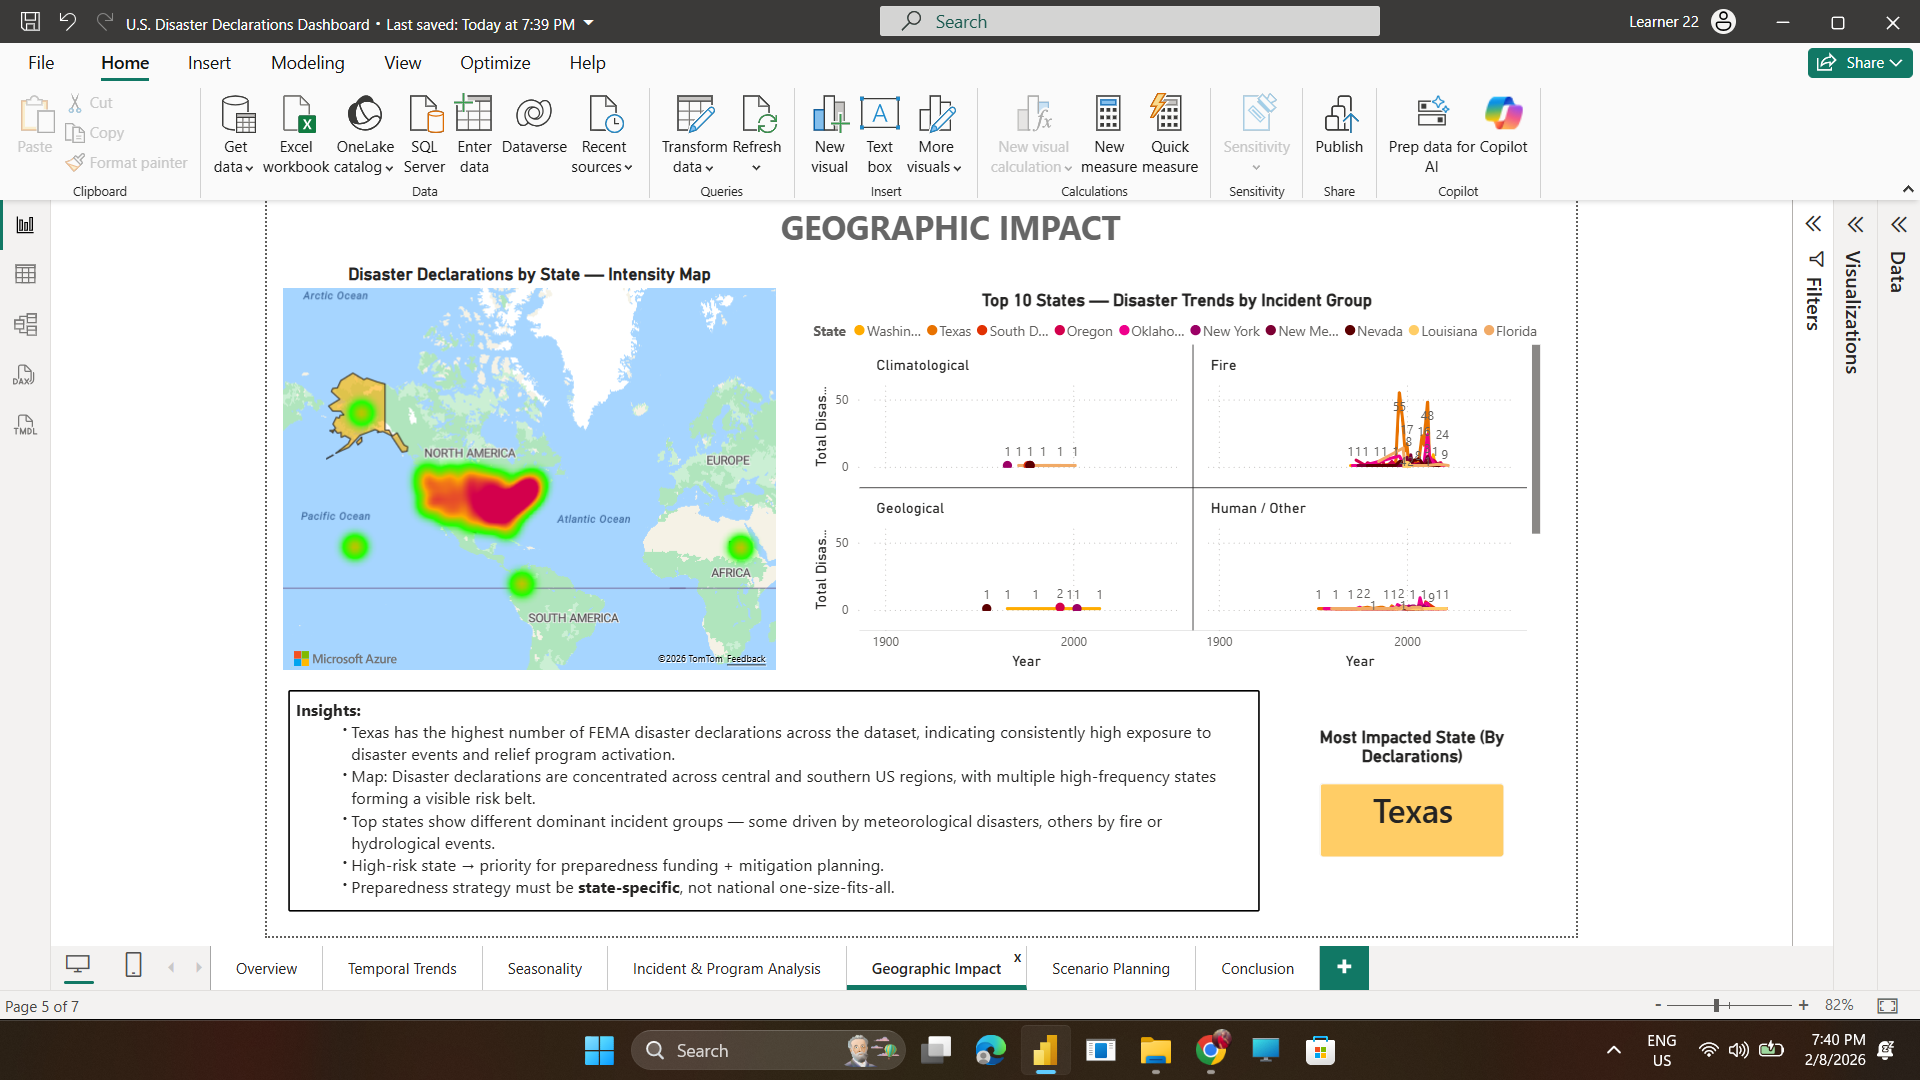

The page's visual inventory and layout, read from the dashboard file:
{"tool":"powerbi","page":{"name":"Geographic Impact","canvas":[1280,720],"ordinal":4},"visuals":[{"type":"lineChart","title":"Top 10 States — Disaster Trends by Incident Group","fields":{"Series":["US_States_and_Territories.Full Name"],"Category":["DimDate.Year"],"Y":["US Disaster_Declarations.Total_Disasters"],"Rows":["US Disaster_Declarations.Incident Group"]},"box":[529.5,88,721.5,376.6],"z":0},{"type":"azureMap","title":"Disaster Declarations by State — Intensity Map","fields":{"Category":["US_States_and_Territories.State"]},"box":[11,62.4,491.6,402.3],"z":1000},{"type":"textbox","box":[393.8,0,550,52.5],"z":2000},{"type":"cardVisual","title":"Most Impacted State (By Declarations)","fields":{"Data":["Min(US_States_and_Territories.State)"]},"box":[1012.5,514.8,215.2,145.5],"z":3000},{"type":"textbox","box":[20.8,479.4,950.1,216.4],"z":4000}]}

Visuals, with their boxes on the page's 1280x720 design canvas (x1, y1, x2, y2). These are canvas units, not pixel positions in the 1920x1080 screenshot, which may show the page scaled, cropped or inside an application window:
"Top 10 States — Disaster Trends by Incident Group" lineChart: pyautogui.locateOnScreen(530, 88, 1251, 465)
"Disaster Declarations by State — Intensity Map" azureMap: pyautogui.locateOnScreen(11, 62, 503, 465)
textbox: pyautogui.locateOnScreen(394, 0, 944, 52)
"Most Impacted State (By Declarations)" cardVisual: pyautogui.locateOnScreen(1012, 515, 1228, 660)
textbox: pyautogui.locateOnScreen(21, 479, 971, 696)
